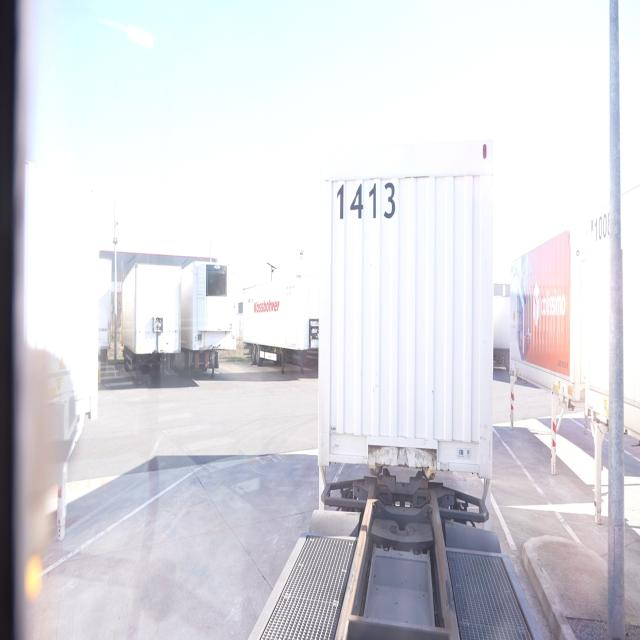Code: (335, 178, 399, 227)
